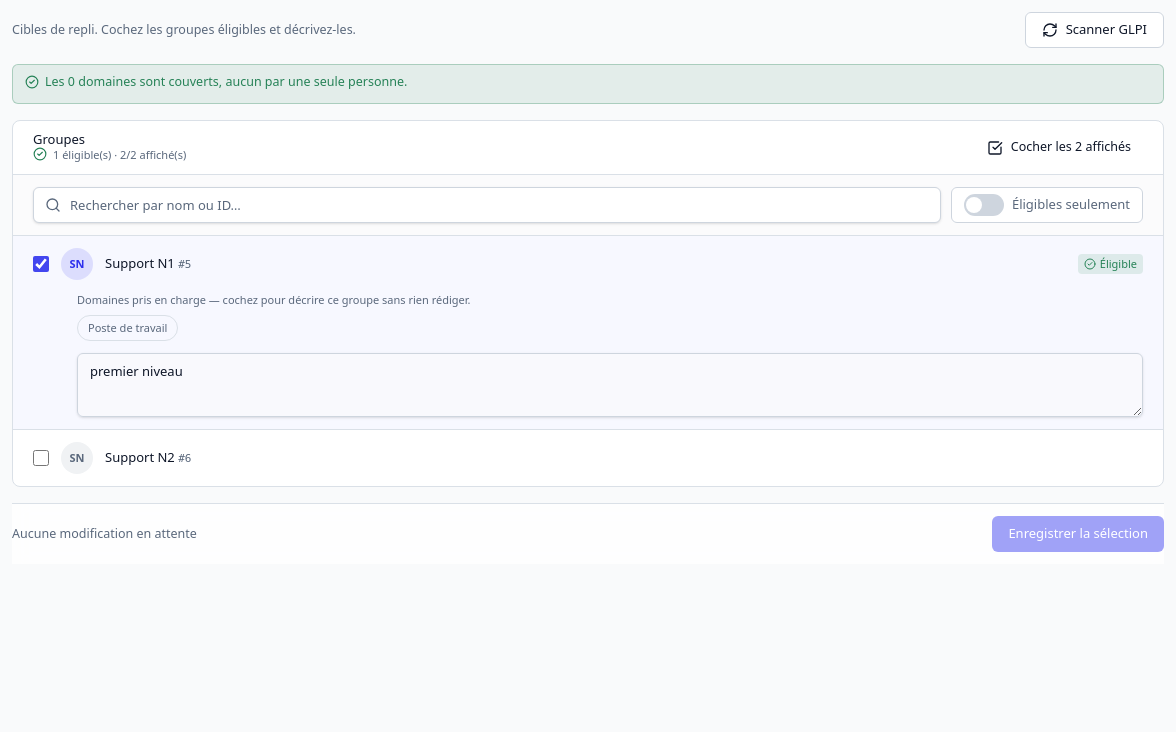
Groups › enregistre l'éligibilité via saveGroups, et pas avant qu'on ait touché à quelque chose
The image size is (1176, 732).
Expected: the text "Support N2" is shown, [105,448,175,466]
Expected: the button "Enregistrer la sélection" is disabled, [992,516,1164,552]
Click the checkbox labelled "SN Support N2 #6": x=41, y=458 [33,450,49,466]
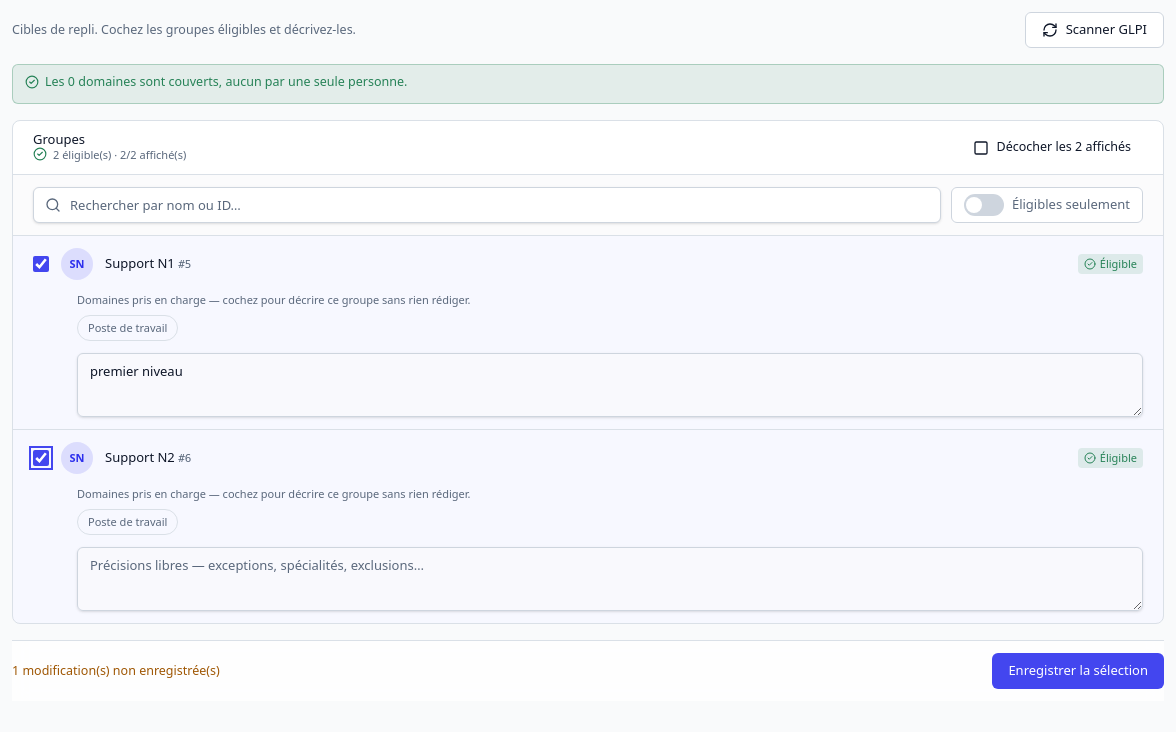
Click the button "Enregistrer la sélection": x=1078, y=671 [992,653,1164,689]
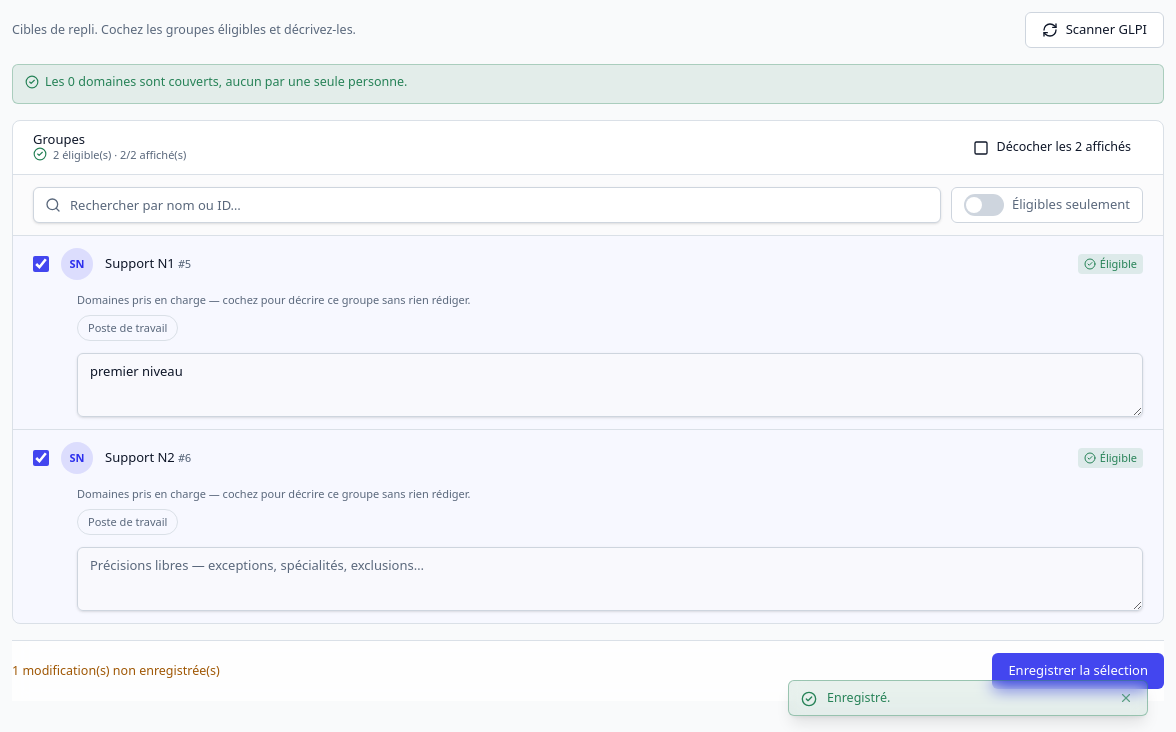
Now the text "Enregistré." is shown, box [827,689,890,706]
